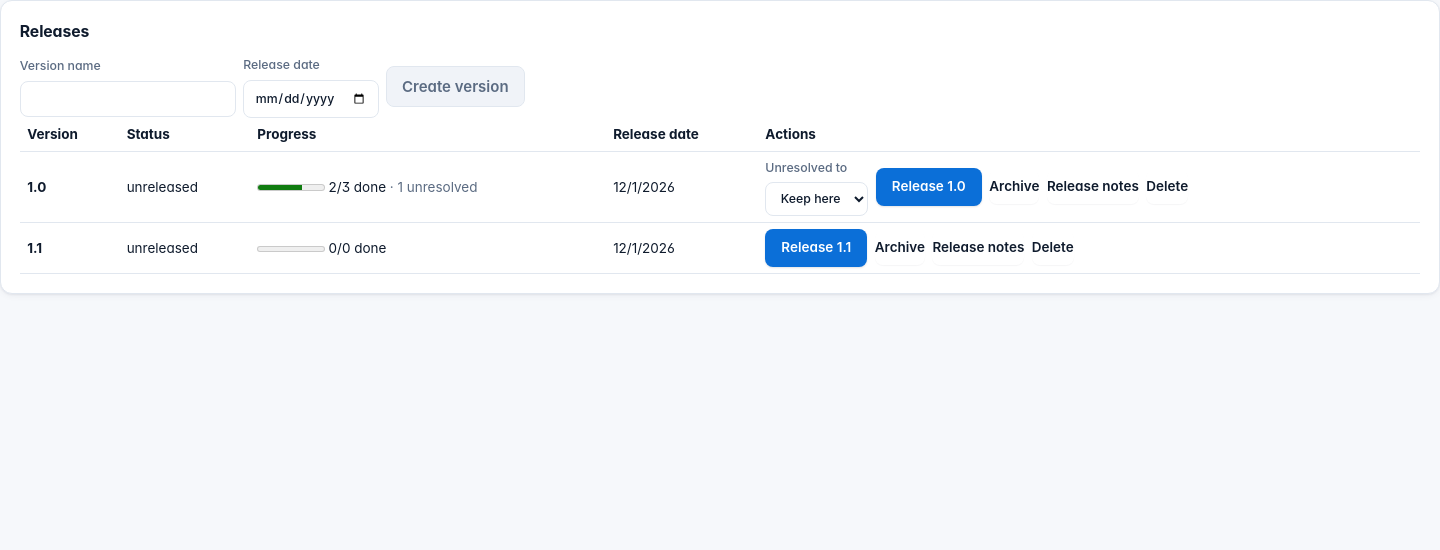
Test: Releases (S48) › creates, releases moving unresolved work, archives and shows notes
Step 1. Type "2.0" into the field labelled "Version name" → (128, 99), box 20,81 -> 236,117
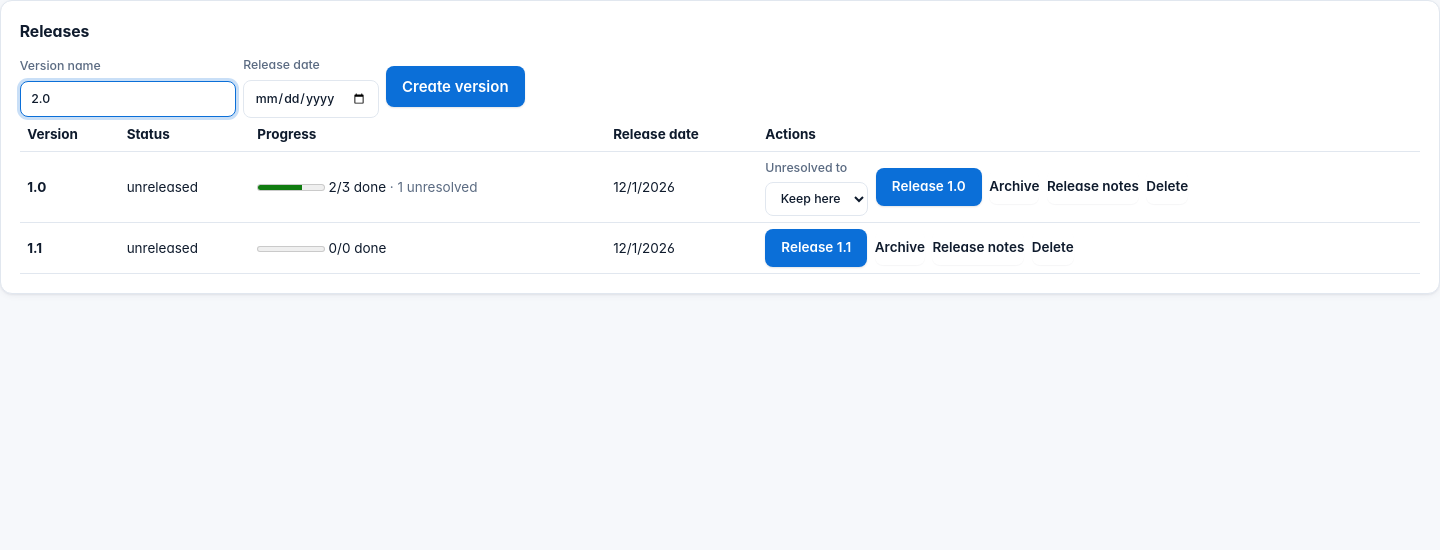
Step 2. Click the button "Create version" → (455, 87), box 386,66 -> 524,107
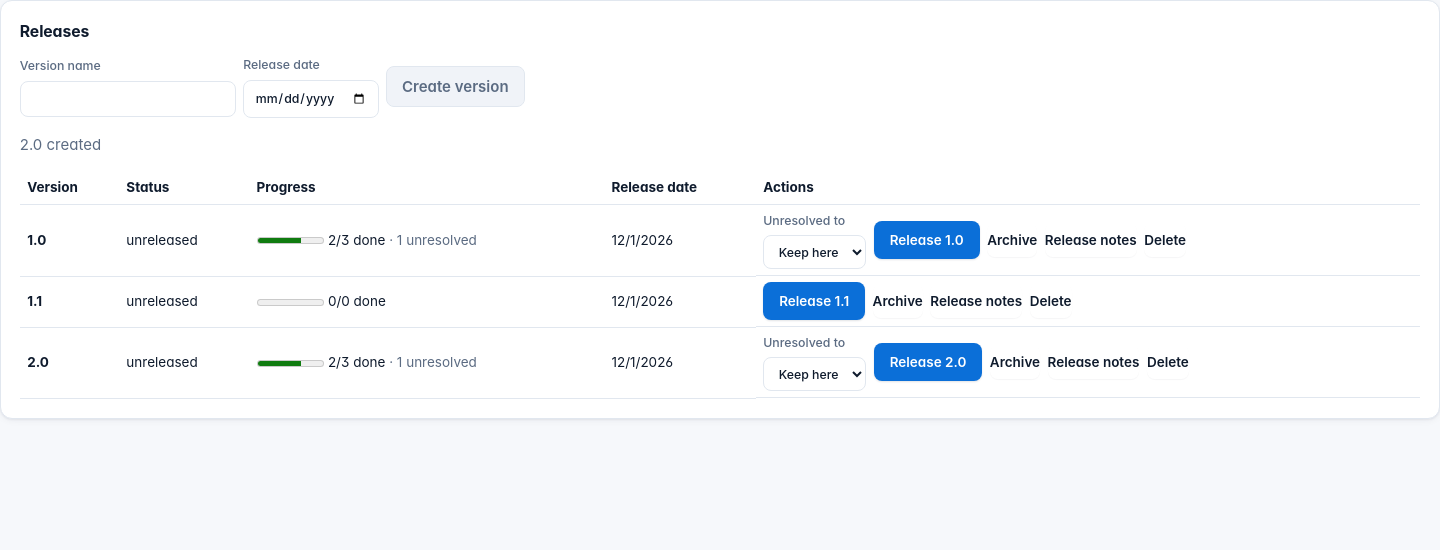
Expected: the message reads "2.0 created", 20,135 -> 101,154
Step 3. Select "1.1" in the 1st dropdown labelled "Unresolved to" → (815, 252), box 763,235 -> 866,269
Step 4. Click the button "Release 1.0" → (927, 240), box 874,221 -> 980,259
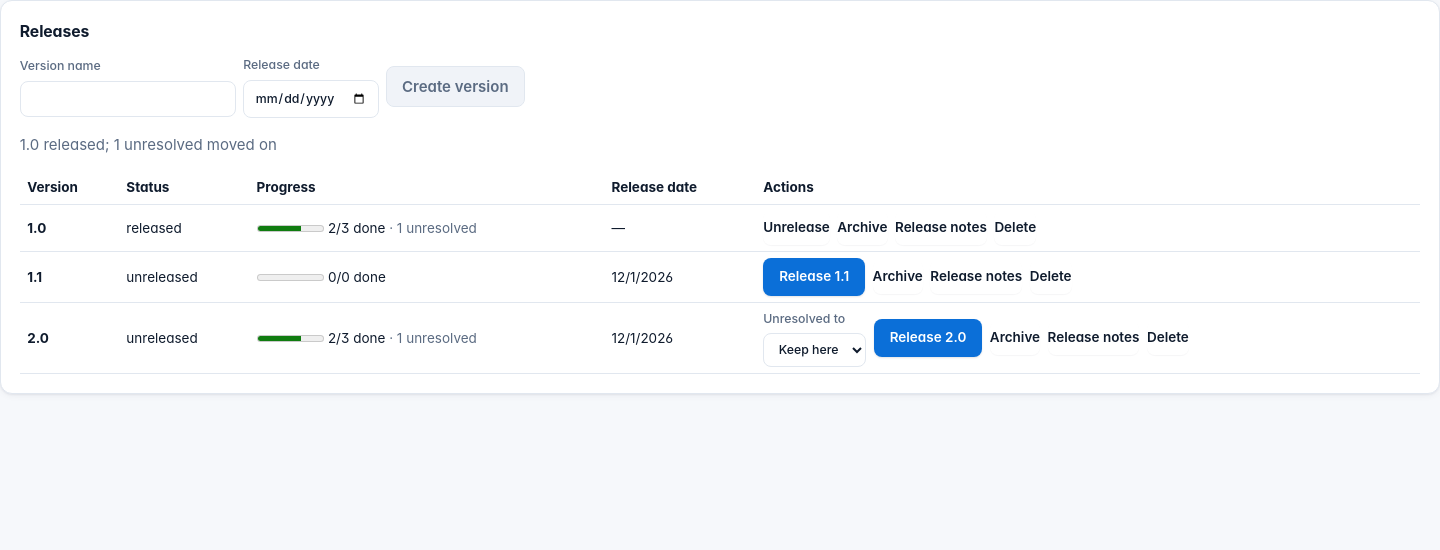
Expected: the text "1.0 released; 1 unresolved moved on" is shown, 20,135 -> 277,154
Step 5. Click the button "Archive" in the row of "0/0 done" → (898, 277), box 873,260 -> 923,294
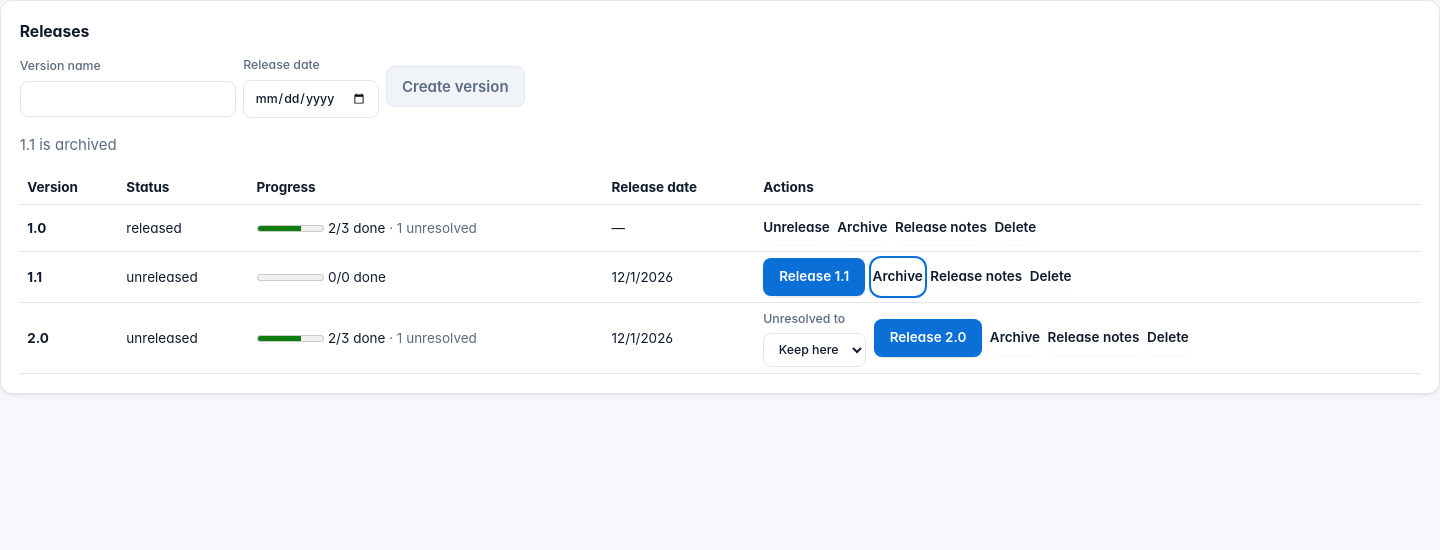
Expected: the text "1.1 is archived" is shown, 20,135 -> 117,154
Step 6. Click the button with aria-label "Delete 2.0" → (1168, 338), box 1147,321 -> 1189,355
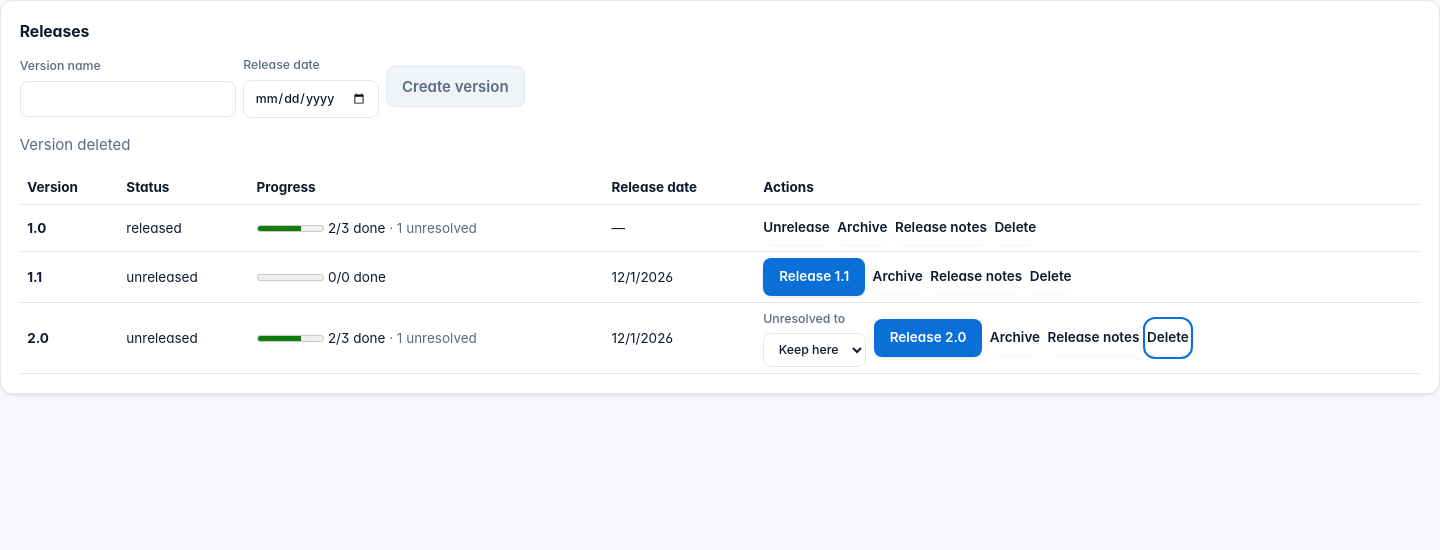
Expected: the text "Version deleted" is shown, 20,135 -> 130,154
Step 7. Click the button "Release notes" in the row of "1.0" → (941, 228), box 895,211 -> 987,245
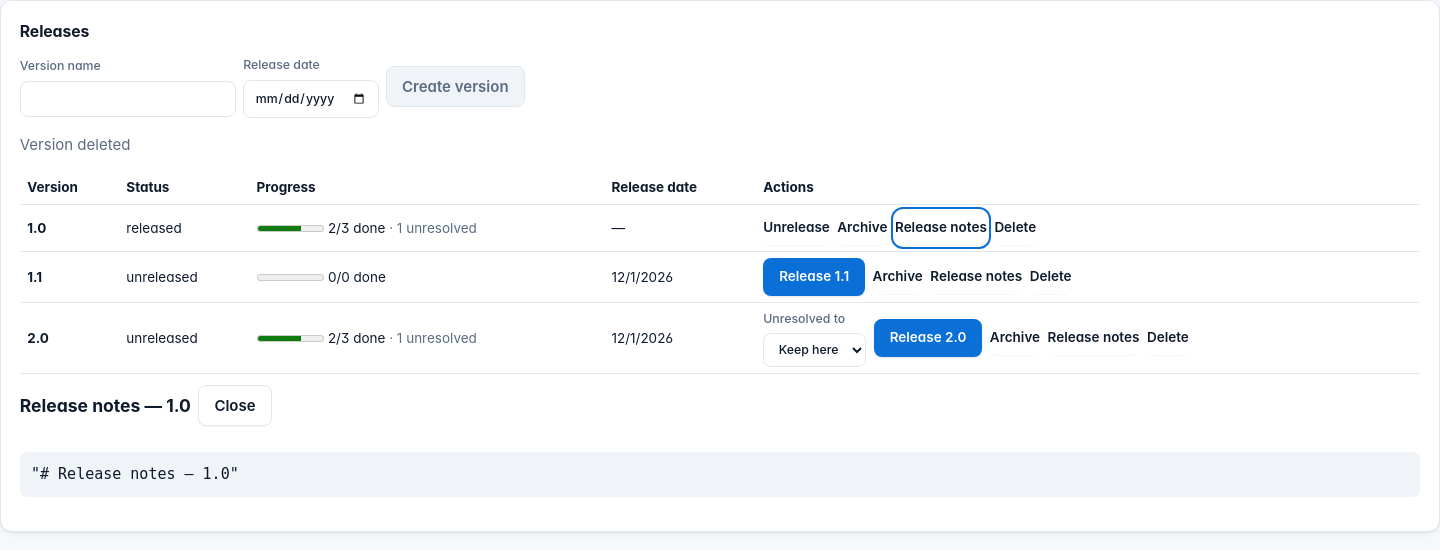
Expected: the text "\"# Release notes — 1.0\"" is shown, 20,452 -> 1420,498
